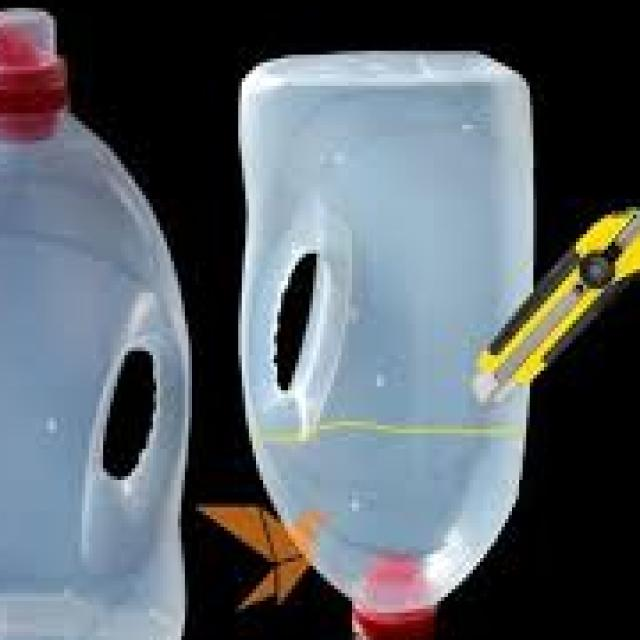organic: (227, 45, 576, 630), (1, 7, 207, 638)
